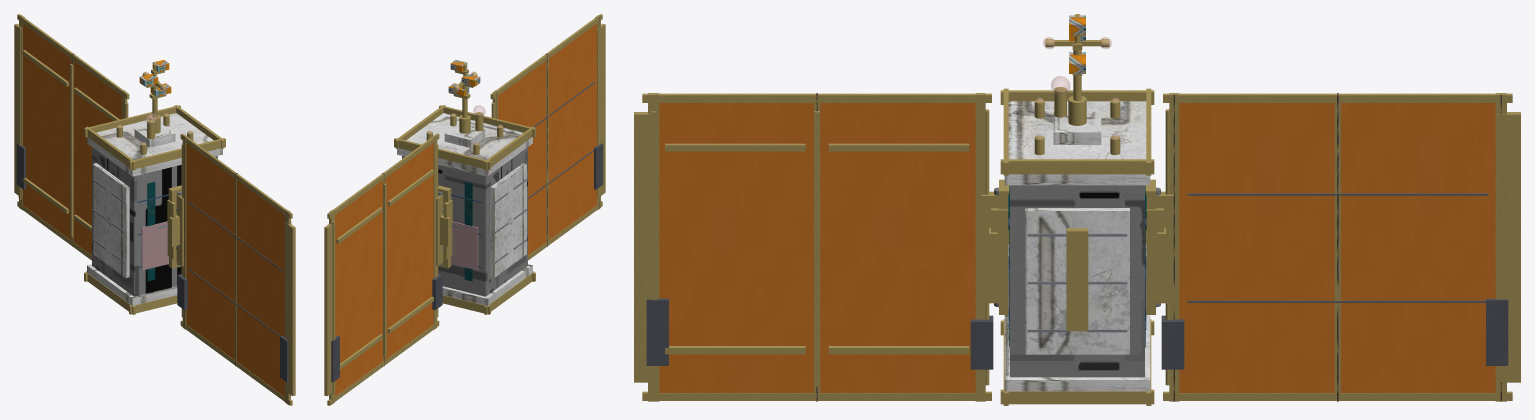
File: satellite_with_articulated_solar_panels__0001.glb
3 renders of one model, left to right at view 1: azimuth 30°, elevation 25°; view 2: azimuth 150°, elevation 25°; view 3: azimuth 270°, elevation 25°, orthographic. The views are drawn at different scales.
Parts seen in each view (by area): view 1: right_solar_wing::panel_backing_0, right_solar_wing::panel_backing_1, left_solar_wing::panel_backing_1, bus::main_bus, left_solar_wing::panel_backing_0, bus::radiator_minus_x, bus::top_deck, right_solar_wing::outer_foldout_spine, bus::minus_y_mli_blanket_panel, left_solar_wing::outer_foldout_spine, bus::bottom_deck, left_solar_wing::top_frame_rail (+25 smaller); view 2: right_solar_wing::panel_backing_1, left_solar_wing::panel_backing_0, left_solar_wing::panel_backing_1, bus::main_bus, right_solar_wing::panel_backing_0, bus::radiator_minus_x, bus::top_deck, left_solar_wing::outer_foldout_spine, right_solar_wing::outer_foldout_spine, bus::plus_y_mli_blanket_panel, bus::bottom_deck, right_solar_wing::top_frame_rail (+26 smaller); view 3: left_solar_wing::panel_backing_0, left_solar_wing::panel_backing_1, right_solar_wing::panel_backing_0, right_solar_wing::panel_backing_1, bus::radiator_plus_x, bus::main_bus, bus::top_deck, left_solar_wing::outer_foldout_spine, right_solar_wing::outer_foldout_spine, right_solar_wing::top_frame_rail, left_solar_wing::top_frame_rail, bus::bottom_deck (+26 smaller).
Boxes of the visible parts, left/top/right/bottom form: right_solar_wing::panel_backing_0: left=186, top=143, right=234, bottom=359; right_solar_wing::panel_backing_1: left=237, top=180, right=284, bottom=396; left_solar_wing::panel_backing_1: left=23, top=23, right=71, bottom=239; bus::main_bus: left=92, top=147, right=217, bottom=296; left_solar_wing::panel_backing_0: left=73, top=61, right=121, bottom=255; bus::radiator_minus_x: left=93, top=163, right=129, bottom=277; bus::top_deck: left=87, top=113, right=222, bottom=176; right_solar_wing::outer_foldout_spine: left=284, top=222, right=295, bottom=396; bus::minus_y_mli_blanket_panel: left=141, top=221, right=168, bottom=270; left_solar_wing::outer_foldout_spine: left=14, top=23, right=22, bottom=198; bus::bottom_deck: left=87, top=264, right=177, bottom=305; left_solar_wing::top_frame_rail: left=17, top=14, right=129, bottom=99; right_solar_wing::panel_backing_1: left=548, top=23, right=596, bottom=239; left_solar_wing::panel_backing_0: left=385, top=143, right=433, bottom=359; left_solar_wing::panel_backing_1: left=335, top=180, right=382, bottom=396; bus::main_bus: left=402, top=147, right=527, bottom=296; right_solar_wing::panel_backing_0: left=498, top=61, right=546, bottom=255; bus::radiator_minus_x: left=490, top=163, right=526, bottom=277; bus::top_deck: left=397, top=113, right=532, bottom=176; left_solar_wing::outer_foldout_spine: left=324, top=224, right=332, bottom=396; right_solar_wing::outer_foldout_spine: left=597, top=23, right=605, bottom=198; bus::plus_y_mli_blanket_panel: left=451, top=221, right=478, bottom=270; bus::bottom_deck: left=442, top=264, right=532, bottom=305; right_solar_wing::top_frame_rail: left=490, top=14, right=602, bottom=99; left_solar_wing::panel_backing_0: left=1179, top=103, right=1334, bottom=392; left_solar_wing::panel_backing_1: left=1341, top=103, right=1495, bottom=392; right_solar_wing::panel_backing_0: left=820, top=103, right=975, bottom=392; right_solar_wing::panel_backing_1: left=659, top=103, right=813, bottom=392; bus::radiator_plus_x: left=1025, top=208, right=1129, bottom=354; bus::main_bus: left=1010, top=185, right=1144, bottom=377; bus::top_deck: left=1004, top=101, right=1150, bottom=185; left_solar_wing::outer_foldout_spine: left=1495, top=112, right=1520, bottom=382; right_solar_wing::outer_foldout_spine: left=634, top=112, right=659, bottom=382; right_solar_wing::top_frame_rail: left=642, top=93, right=991, bottom=102; left_solar_wing::top_frame_rail: left=1163, top=93, right=1512, bottom=102; bus::bottom_deck: left=1004, top=315, right=1150, bottom=391.
Size of the model in its own units: 1.28 by 3.03 by 6.32.
17 materials, 15 textured.
